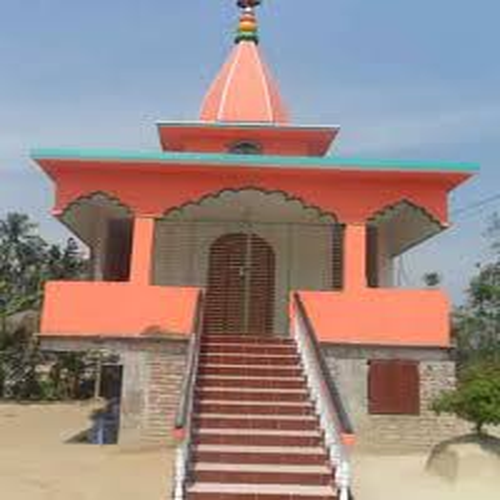Temple: (34, 5, 470, 421)
